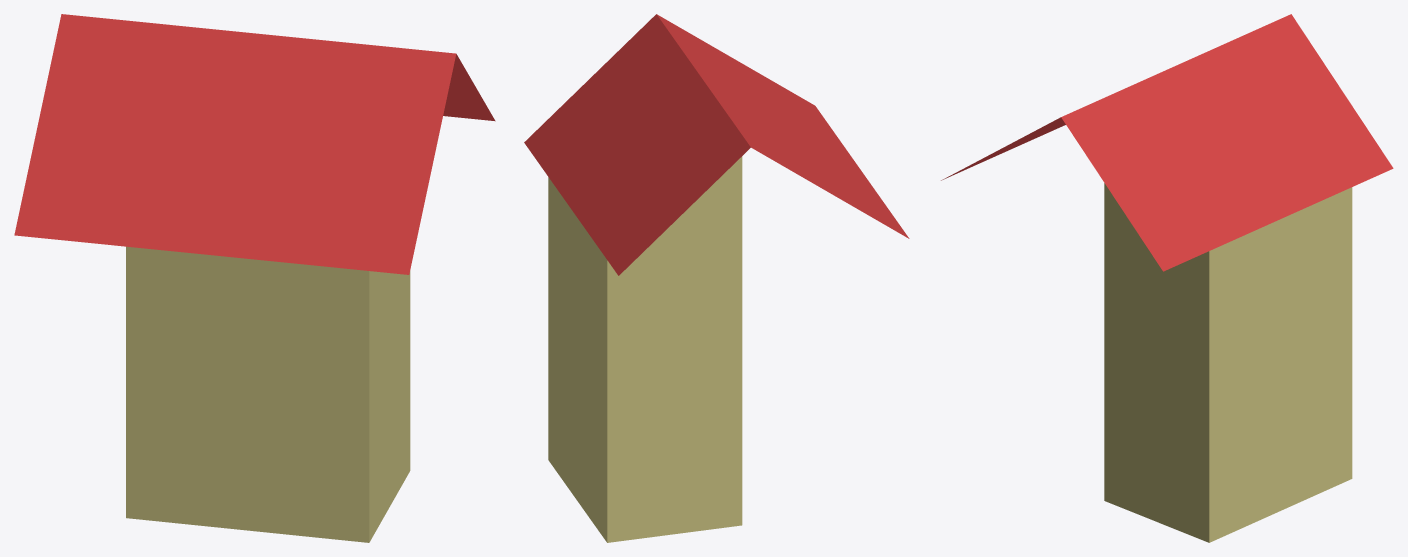
3 views of the same model, side by side, from view 1: azimuth 30°, elevation 25°; view 2: azimuth 150°, elevation 25°; view 3: azimuth 270°, elevation 25° (orthographic). The views are drawn at different scales.
Bounding box in the file's own units: 7.64 × 7.62 × 7.54.
